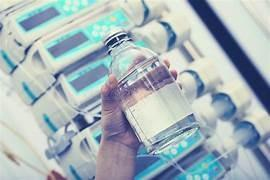Iv_Bottle: (104, 28, 198, 153)
